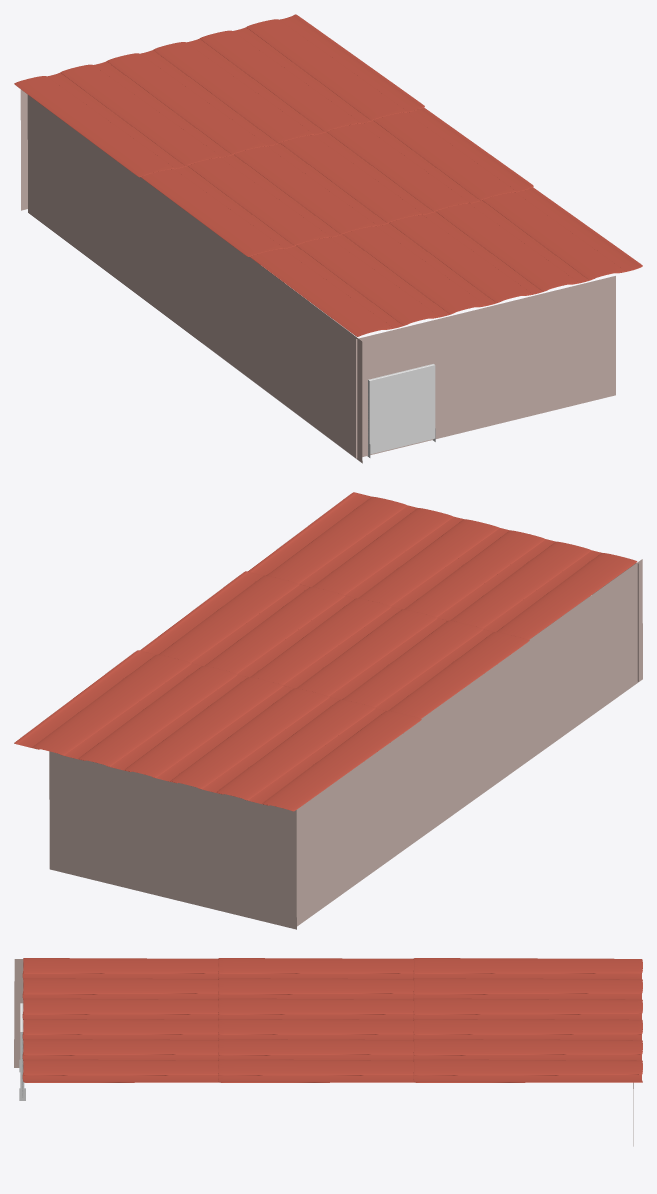
Rendered from lyddaero hangarageblend.fbx.
3 renders of one model, top to bottom at view 1: azimuth 30°, elevation 25°; view 2: azimuth 150°, elevation 25°; view 3: azimuth 270°, elevation 25°, orthographic. The views are drawn at different scales.
Parts seen in each view (by area): view 1: lyddaeroHangarRoof, lyddaeroHangar.002, lyddaeroHangar.001, CTRL_Hole, lyddaeroHangar.004; view 2: lyddaeroHangarRoof, lyddaeroHangar.002, lyddaeroHangar.004; view 3: lyddaeroHangarRoof, lyddaeroHangar.002.
Part boxes in pixels (x1=…): lyddaeroHangarRoof: x1=14, y1=14, x2=642, y2=336; lyddaeroHangar.002: x1=27, y1=95, x2=362, y2=463; lyddaeroHangar.001: x1=356, y1=276, x2=615, y2=458; CTRL_Hole: x1=368, y1=364, x2=435, y2=454; lyddaeroHangar.004: x1=20, y1=89, x2=27, y2=210; lyddaeroHangarRoof: x1=14, y1=492, x2=637, y2=811; lyddaeroHangar.002: x1=296, y1=559, x2=642, y2=926; lyddaeroHangar.004: x1=49, y1=751, x2=296, y2=929; lyddaeroHangarRoof: x1=22, y1=958, x2=642, y2=1082; lyddaeroHangar.002: x1=14, y1=959, x2=23, y2=1067.
Size of the model in its own units: 2178 by 919 by 4598.
